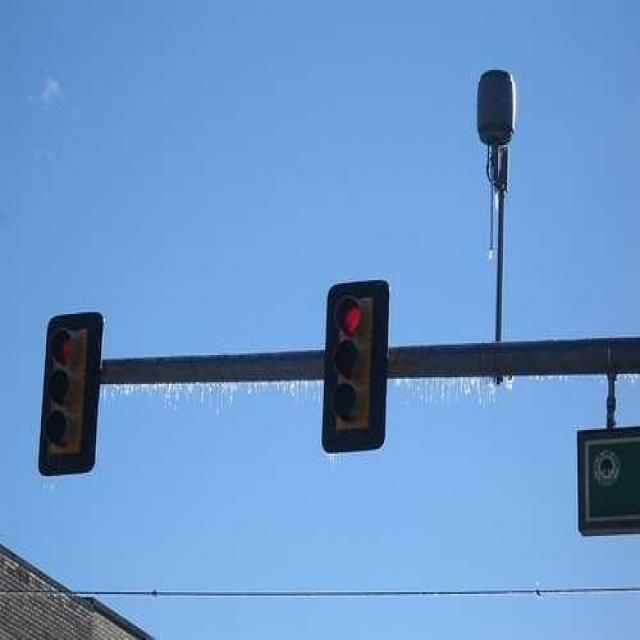red_light: (327, 281, 380, 448), (327, 380, 372, 434), (331, 290, 374, 341), (331, 344, 373, 384)
